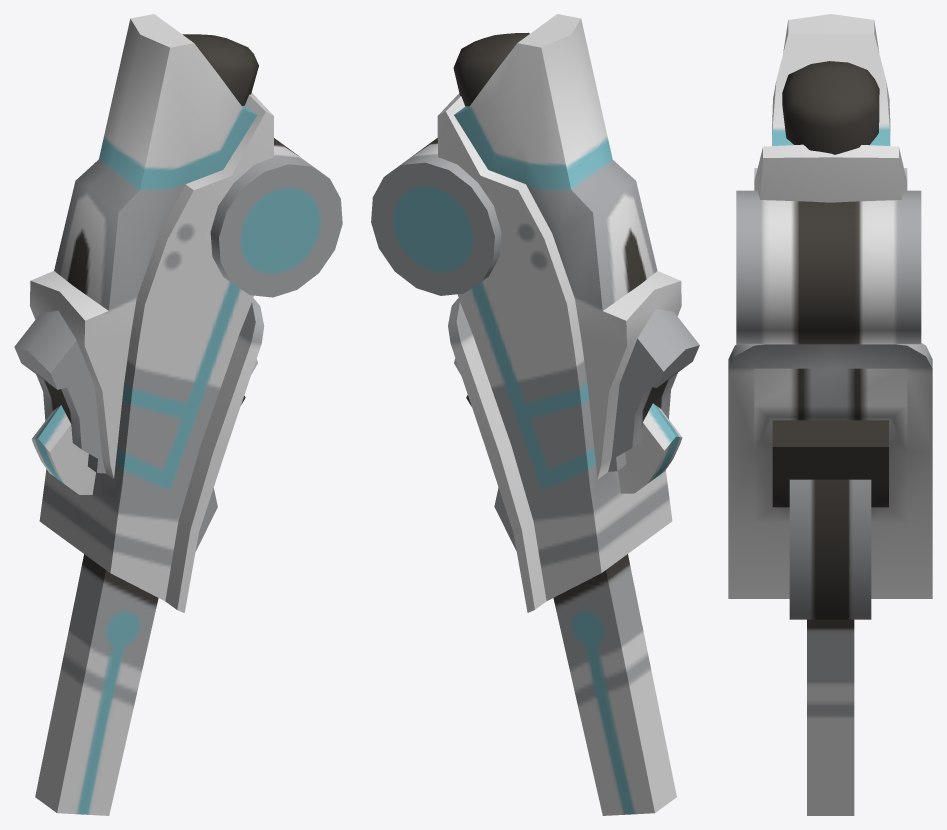
File: ranger_gun.fbx
The picture shows the model from 3 angles, left to right: view 1: azimuth 30°, elevation 25°; view 2: azimuth 150°, elevation 25°; view 3: azimuth 270°, elevation 25°; orthographic projection. The views are drawn at different scales.
Parts seen in each view (by area): view 1: 총; view 2: 총; view 3: 총.
Boxes of the visible parts, x1,y1,x2,y2 form: 총: [14, 14, 342, 815]; 총: [371, 14, 699, 815]; 총: [728, 14, 932, 815].
Bounding box in the file's own units: 24.25 × 65.07 × 14.6.
